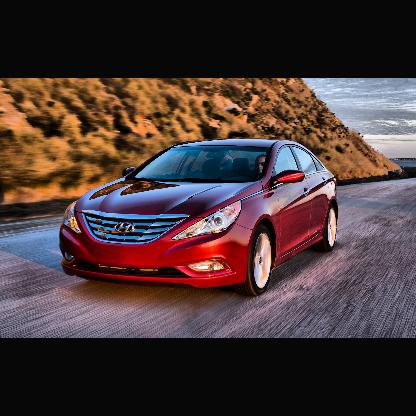Hyundai Sonata Sedan 2012: (47, 132, 354, 306)
